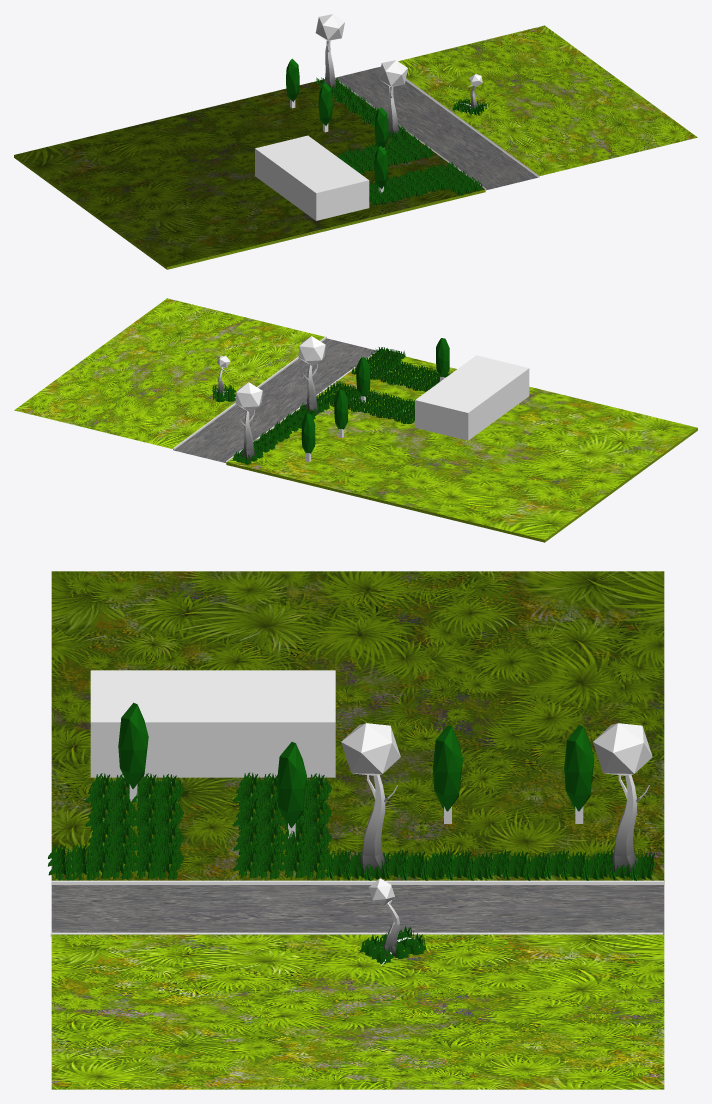
Rendered from Module_3_SM.FBX.
3 views of the same model, one above another, from view 1: azimuth 30°, elevation 25°; view 2: azimuth 150°, elevation 25°; view 3: azimuth 270°, elevation 25° (orthographic). The views are drawn at different scales.
Visible parts, largest first — view 1: Module_3_SM_LOD0; view 2: Module_3_SM_LOD0; view 3: Module_3_SM_LOD0.
Boxes of the visible parts, x1=… form: Module_3_SM_LOD0: x1=14, y1=14, x2=697, y2=269; Module_3_SM_LOD0: x1=14, y1=298, x2=697, y2=542; Module_3_SM_LOD0: x1=48, y1=571, x2=664, y2=1089.
Bounding box in the file's own units: 10005 × 5030 × 1459.
